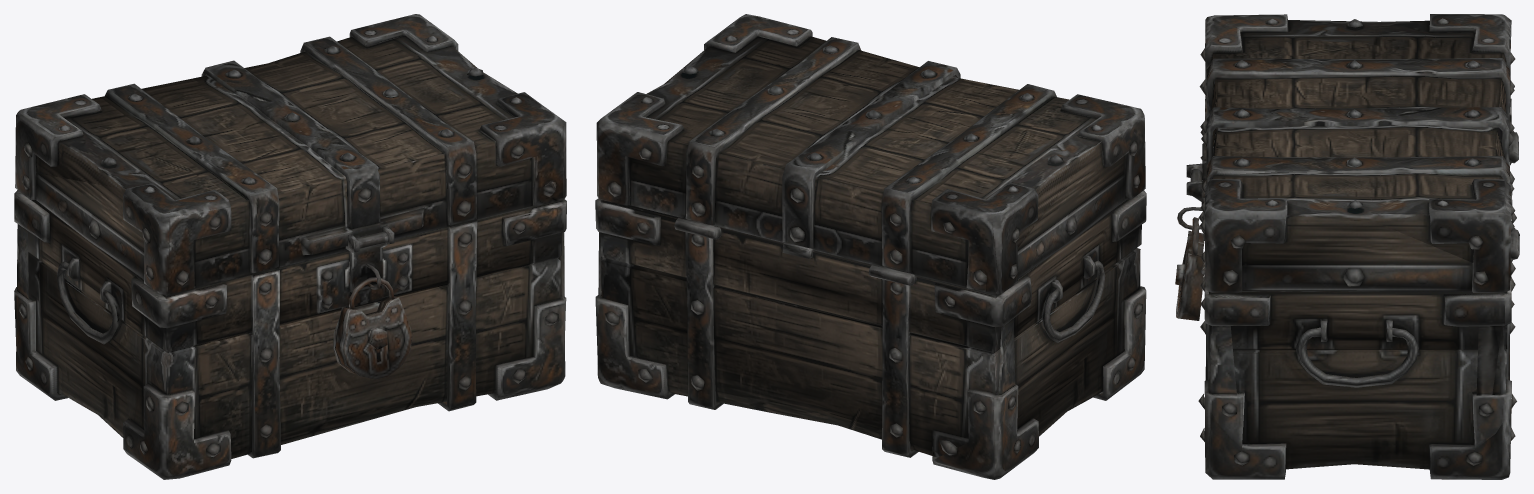
3 renders of one model, left to right at view 1: azimuth 30°, elevation 25°; view 2: azimuth 150°, elevation 25°; view 3: azimuth 270°, elevation 25°, orthographic.
Size of the model in its own units: 1 by 0.6329 by 0.7127.
Materials: 1 (1 with a texture image).
